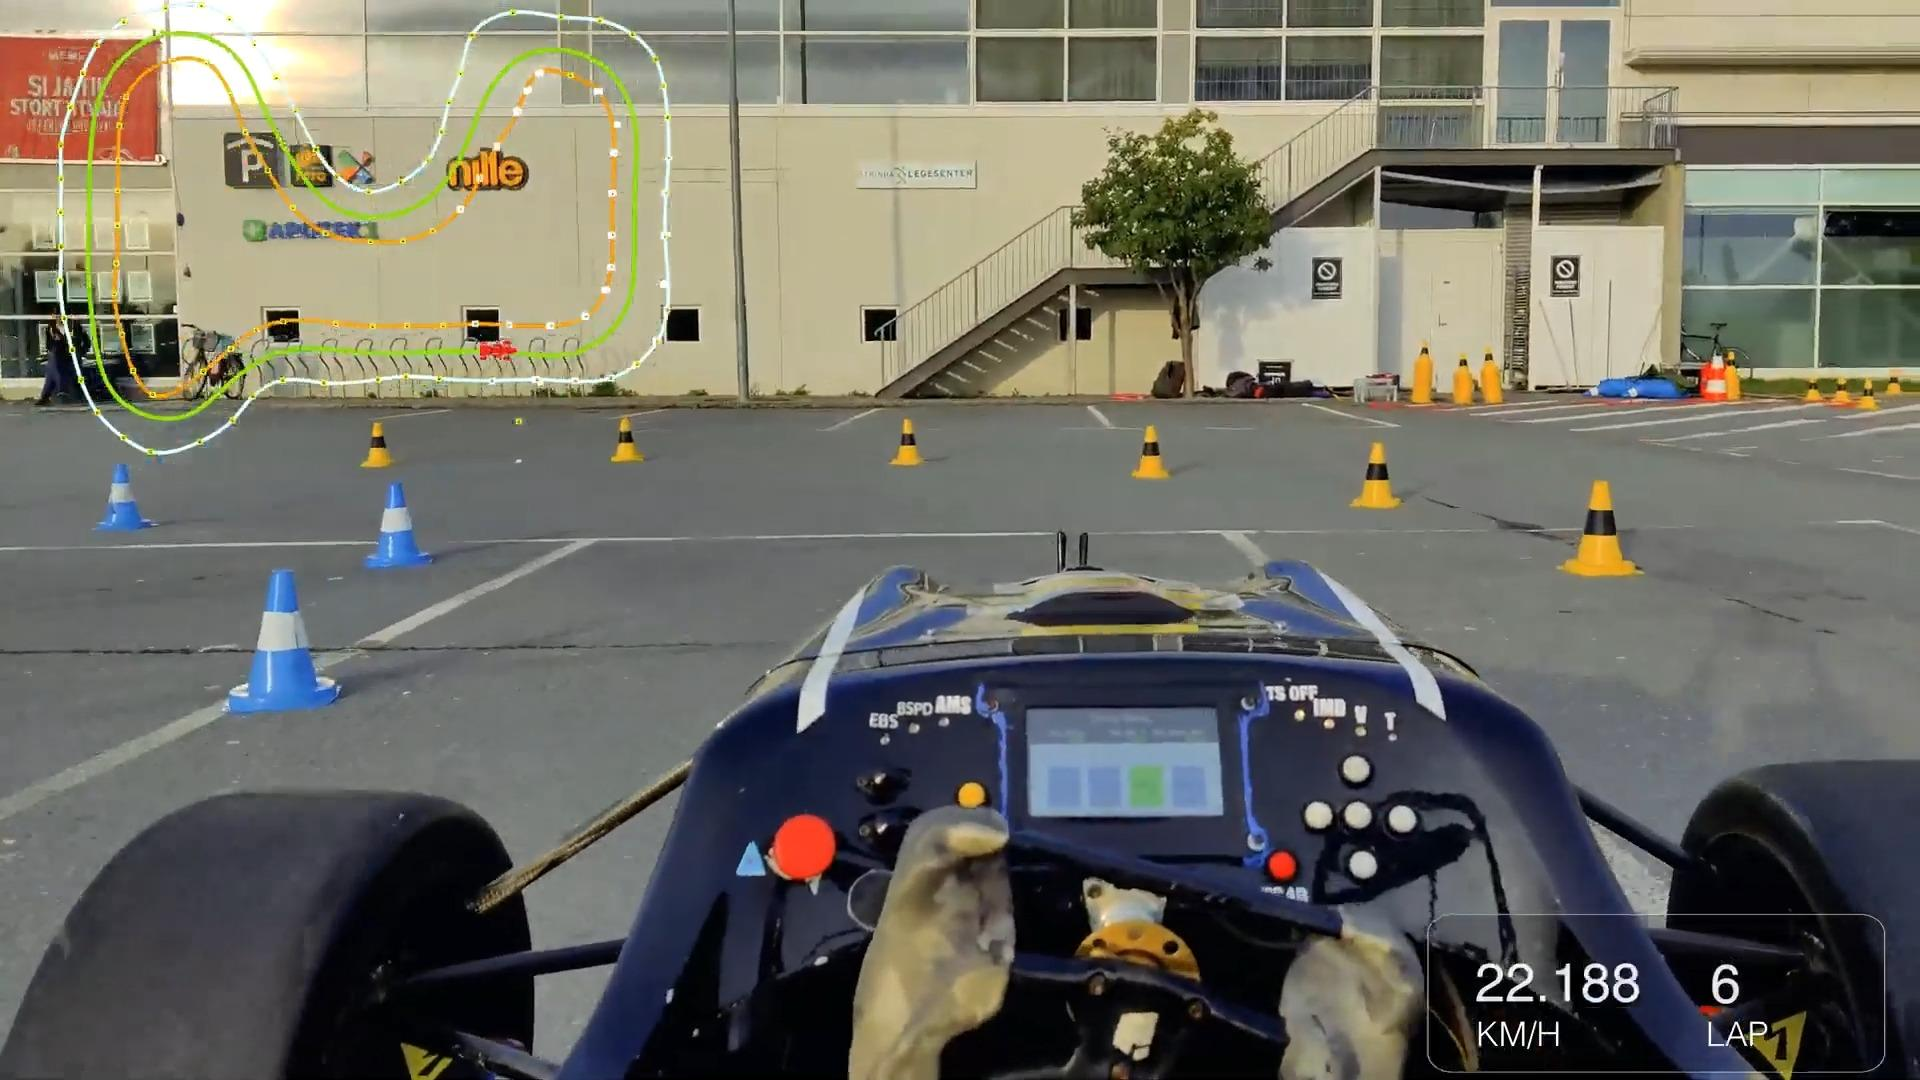blue_cone: (228, 566, 343, 715), (365, 480, 430, 570), (102, 462, 148, 535)
large_orange_cone: (1701, 349, 1726, 406)
yellow_cone: (1555, 473, 1644, 582), (1349, 438, 1406, 512), (1127, 426, 1176, 483), (887, 417, 927, 468), (611, 415, 646, 465), (360, 422, 396, 472), (1803, 371, 1825, 406), (1858, 377, 1879, 411), (1833, 376, 1849, 406), (1455, 353, 1472, 381), (1887, 368, 1903, 396), (1416, 342, 1431, 368), (1481, 347, 1495, 373)
